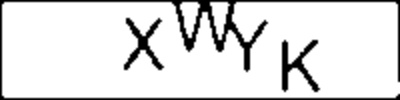K: (277, 38, 326, 95)
W: (172, 1, 236, 58)
X: (118, 14, 168, 74)
Y: (221, 17, 272, 73)
